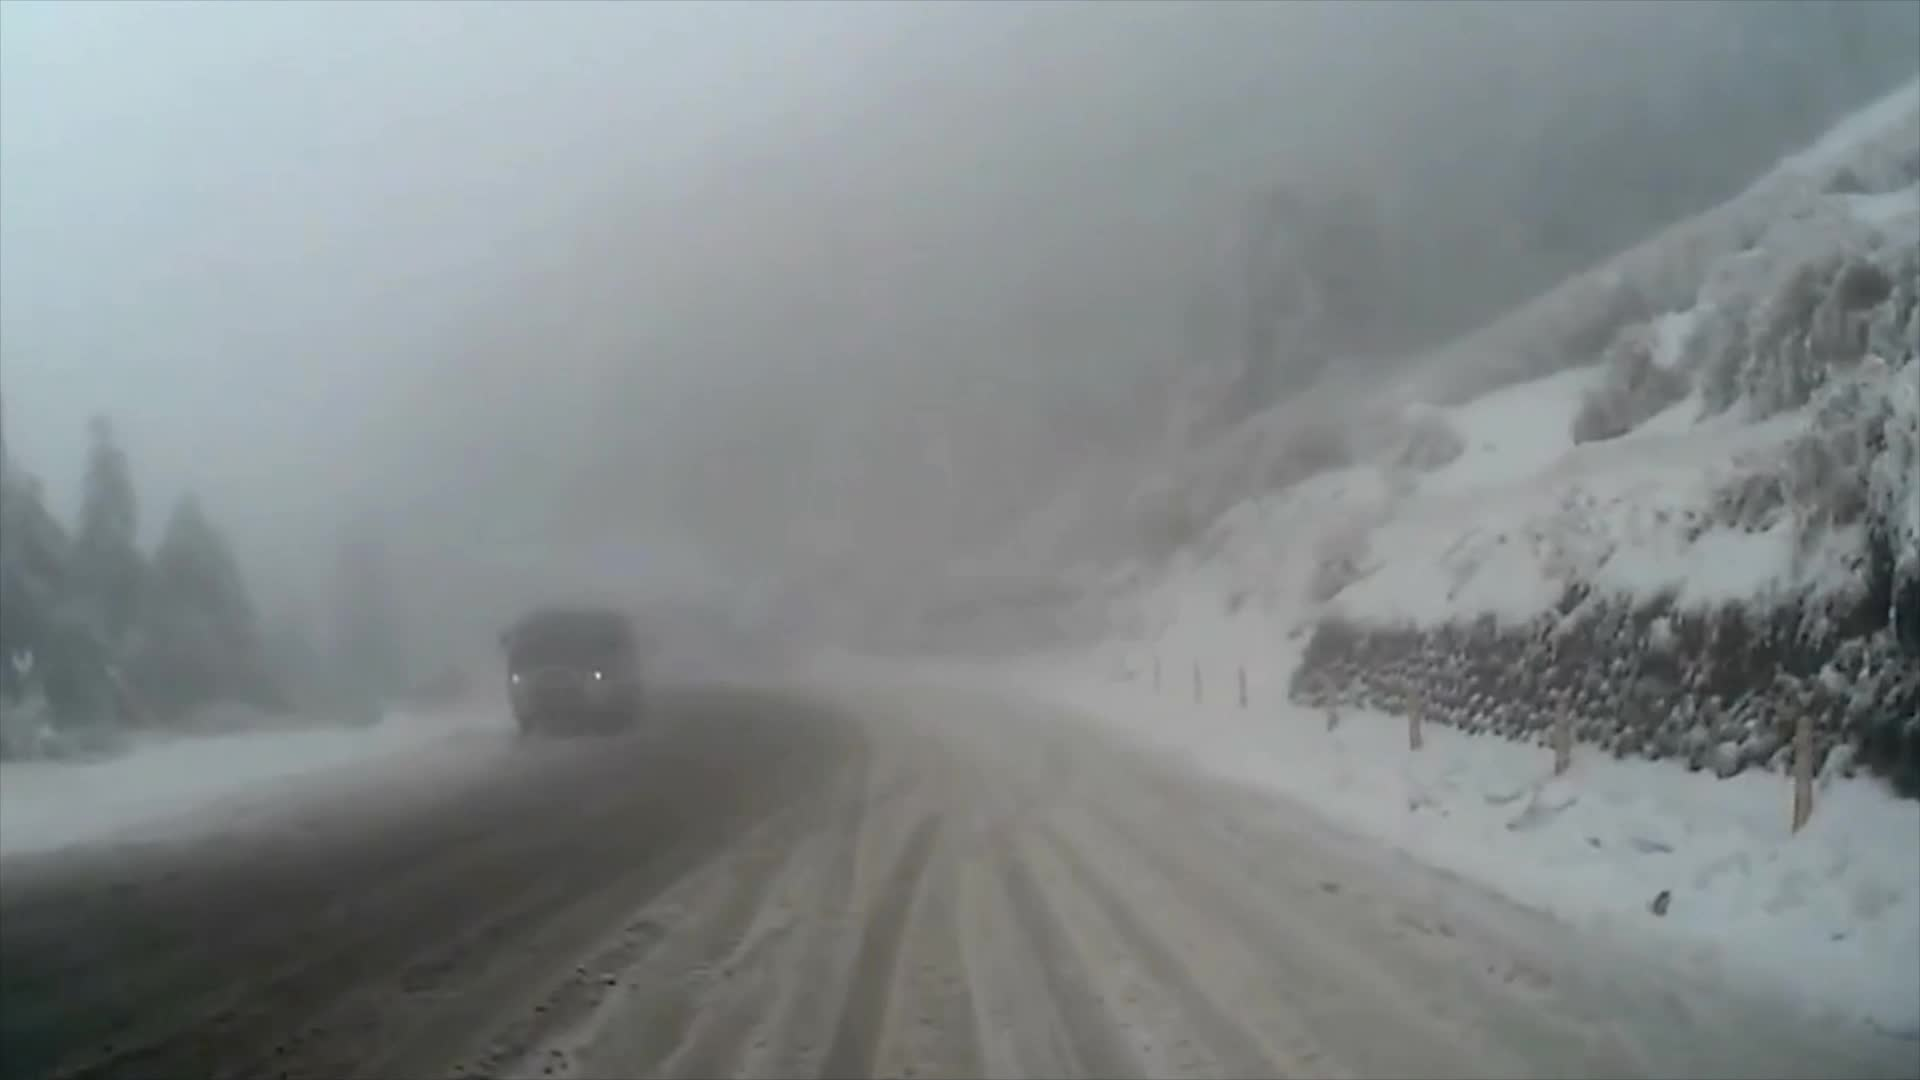vehicle: (501, 605, 644, 735)
